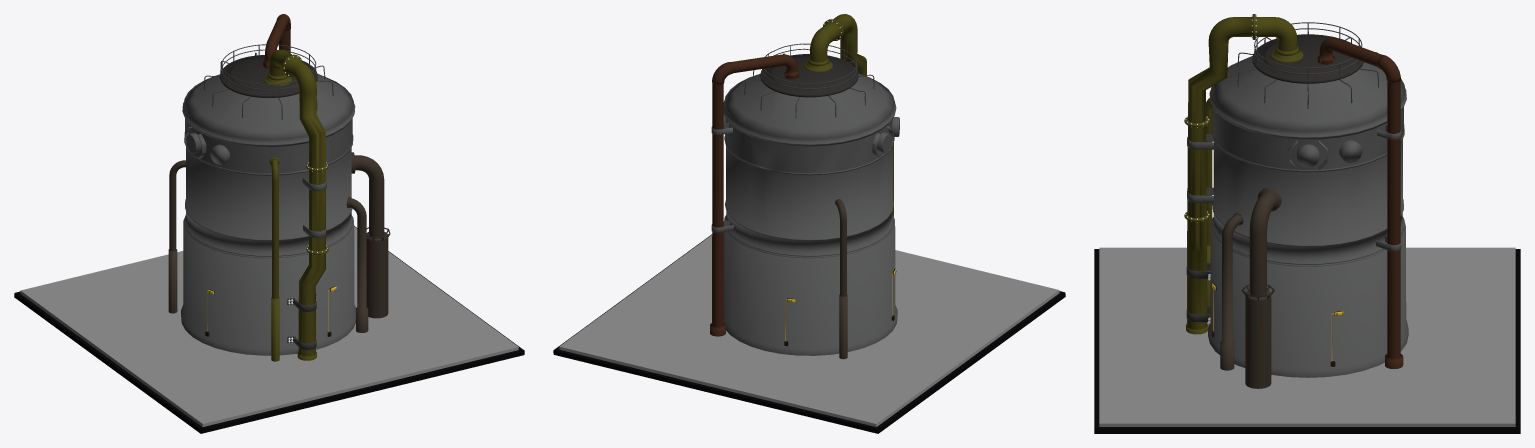
Rendered from Vertical_Storage_Tank_MAT_origin.fbx.
3 views of the same model, side by side, from view 1: azimuth 30°, elevation 25°; view 2: azimuth 150°, elevation 25°; view 3: azimuth 270°, elevation 25° (orthographic). The views are drawn at different scales.
Parts seen in each view (by area): view 1: Plane.002, mesh0.022, mesh0.003, mesh0.010, Plane.001, mesh0.008, mesh0.004, mesh0.012, mesh0.009, mesh0.021, mesh0.020, mesh0.011 (+3 smaller); view 2: Plane.002, mesh0.022, mesh0.003, mesh0.020, Plane.001, mesh0.008, mesh0.010, mesh0.011, mesh0.013, mesh0.005; view 3: Plane.002, mesh0.022, mesh0.003, mesh0.010, mesh0.020, Plane.001, mesh0.008, mesh0.004, mesh0.012, mesh0.009, mesh0.013, mesh0.021 (+1 smaller).
Boxes of the visible parts, x1,y1,x2,y2 form: Plane.002: (20,227,518,426); mesh0.022: (182,73,355,258); mesh0.003: (181,215,355,355); mesh0.010: (263,49,328,360); Plane.001: (14,226,524,433); mesh0.008: (220,55,317,97); mesh0.004: (366,232,388,318); mesh0.012: (351,152,384,237); mesh0.009: (346,196,368,332); mesh0.021: (269,157,279,299); mesh0.020: (263,14,290,68); mesh0.011: (169,160,185,251); Plane.002: (559,235,1059,426); mesh0.022: (711,73,899,258); mesh0.003: (723,214,897,355); mesh0.020: (710,54,799,336); Plane.001: (553,234,1065,433); mesh0.008: (760,54,858,97); mesh0.010: (804,14,866,76); mesh0.011: (835,199,846,296); mesh0.013: (762,43,856,93); mesh0.005: (839,294,847,359); Plane.002: (1099,247,1515,426); mesh0.022: (1187,56,1406,266); mesh0.003: (1208,217,1408,377); mesh0.010: (1184,14,1303,334); mesh0.020: (1317,37,1403,368); Plane.001: (1094,249,1520,433); mesh0.008: (1252,34,1363,83); mesh0.004: (1245,290,1271,388); mesh0.012: (1249,187,1281,296); mesh0.009: (1220,212,1243,370); mesh0.013: (1254,22,1362,80); mesh0.021: (1206,98,1212,245).
Size of the model in its own units: 450 by 382 by 449.
